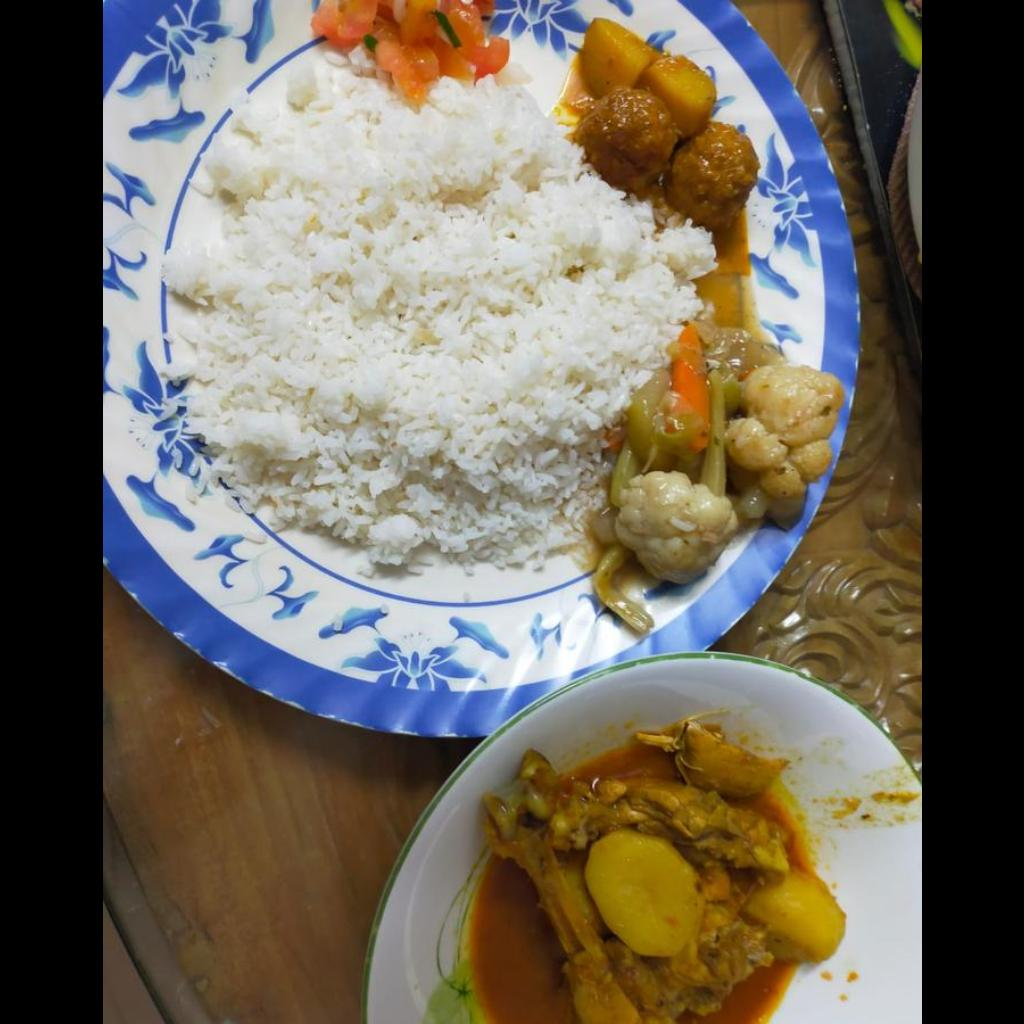cauliflower: (588, 329, 846, 584)
chicken: (479, 729, 791, 1023)
egg: (574, 89, 762, 224)
potato: (572, 18, 715, 140)
rice: (163, 63, 711, 582)
